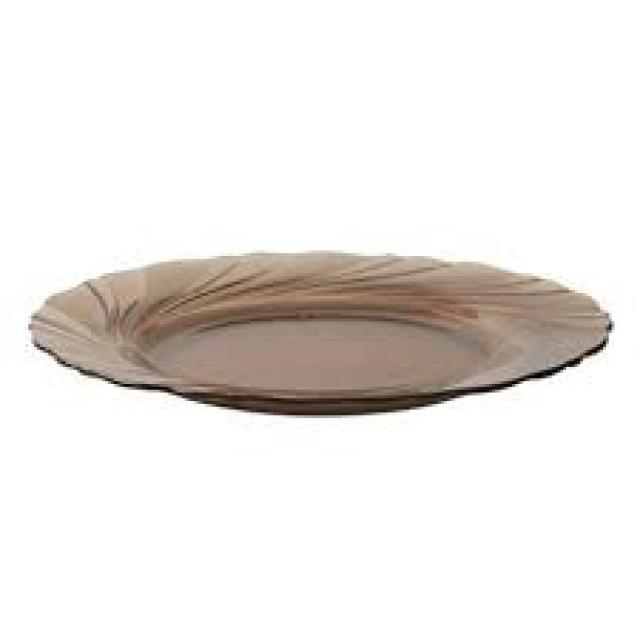glass: (28, 250, 609, 421)
